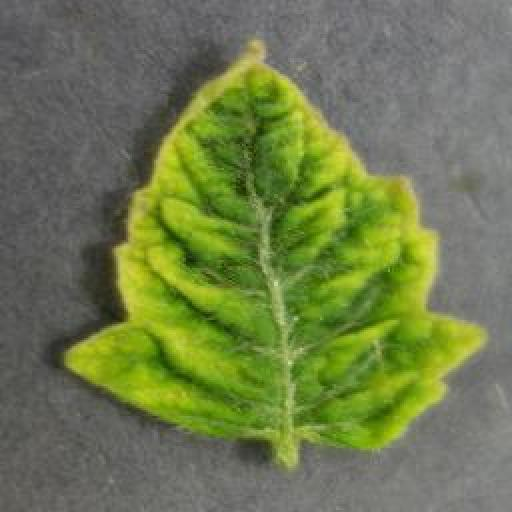disease_tomato: (64, 35, 487, 453)
